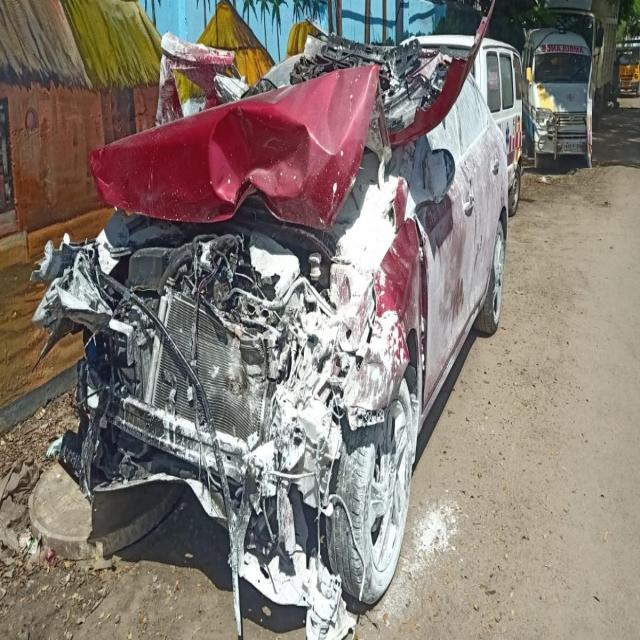accident: (34, 22, 508, 638)
emergency: (471, 38, 525, 216), (522, 29, 591, 168), (419, 36, 471, 53)
